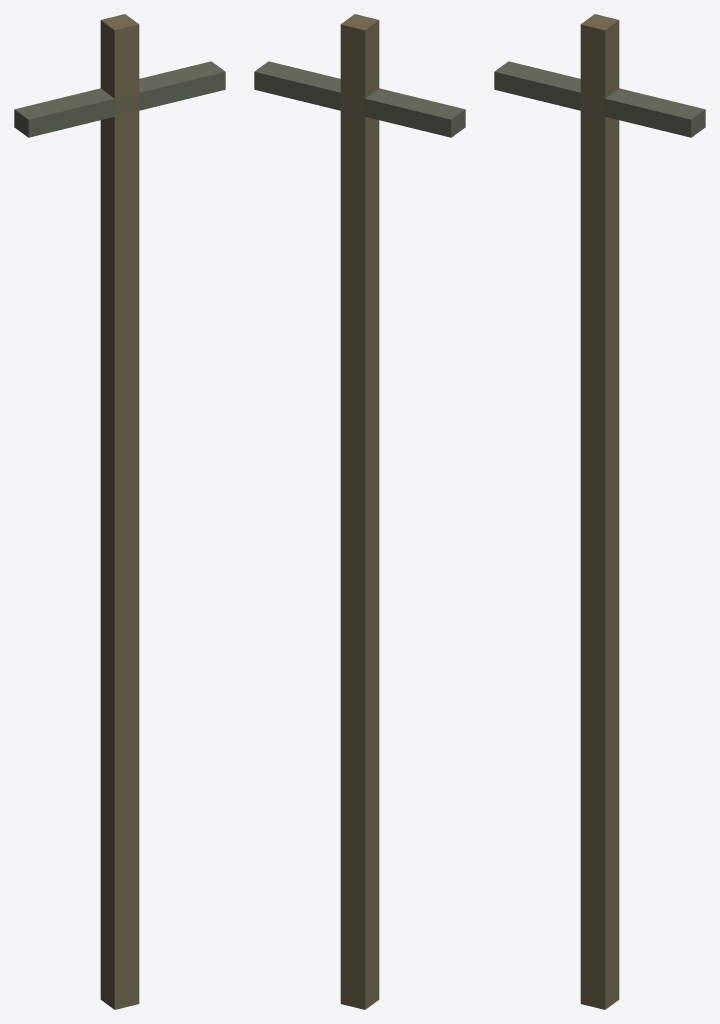
The model's file is utility-pole.glb.
3 renders of one model, left to right at view 1: azimuth 30°, elevation 25°; view 2: azimuth 150°, elevation 25°; view 3: azimuth 330°, elevation 25°, orthographic.
Parts seen in each view (by area): view 1: utility-pole; view 2: utility-pole; view 3: utility-pole.
Boxes of the visible parts, <box> form: utility-pole: <box>14,14,225,1009</box>; utility-pole: <box>254,14,465,1009</box>; utility-pole: <box>494,14,705,1009</box>.
Bounding box in the file's own units: 0.8 × 3.8 × 0.1.
